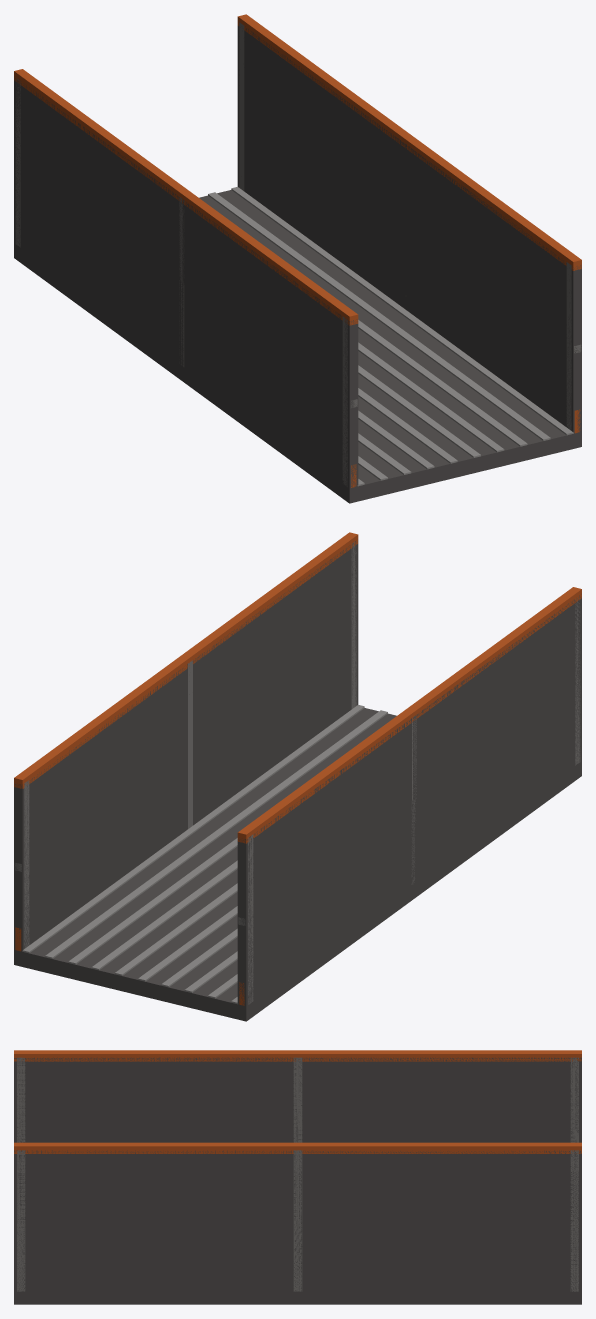
File: B_k_catwalk.glb
The picture shows the model from 3 angles, top to bottom: view 1: azimuth 30°, elevation 25°; view 2: azimuth 150°, elevation 25°; view 3: azimuth 270°, elevation 25°; orthographic projection. The views are drawn at different scales.
Parts seen in each view (by area): view 1: MCDCX_h.001, MCDCX_h.002, Cube, Cube.014, Cube.020, Cube.009, Cube.010, Cube.008, Cube.007, Cube.006, Cube.013, Cube.017 (+5 smaller); view 2: MCDCX_h.001, MCDCX_h.002, Cube, Cube.020, Cube.014, Cube.009, Cube.010, Cube.008, Cube.007, Cube.006, Cube.011, Cube.017 (+5 smaller); view 3: MCDCX_h.002, MCDCX_h.001, Cube, Cube.020, Cube.014, Cube.018, Cube.019, Cube.017, Cube.012, Cube.011, Cube.013.
Part boxes in pixels (<box>): MCDCX_h.001: <box>14,78,358,488</box>; MCDCX_h.002: <box>237,26,581,433</box>; Cube: <box>14,190,581,503</box>; Cube.014: <box>14,69,358,325</box>; Cube.020: <box>237,14,581,270</box>; Cube.009: <box>208,192,550,440</box>; Cube.010: <box>231,186,573,435</box>; Cube.008: <box>358,320,527,446</box>; Cube.007: <box>358,342,504,452</box>; Cube.006: <box>358,365,480,457</box>; Cube.013: <box>342,316,347,486</box>; Cube.017: <box>239,22,244,190</box>; MCDCX_h.001: <box>237,594,581,1006</box>; MCDCX_h.002: <box>14,540,358,951</box>; Cube: <box>14,708,581,1021</box>; Cube.020: <box>14,532,358,788</box>; Cube.014: <box>237,587,581,843</box>; Cube.009: <box>45,710,387,958</box>; Cube.010: <box>22,704,364,953</box>; Cube.008: <box>68,838,237,964</box>; Cube.007: <box>91,860,237,970</box>; Cube.006: <box>115,883,237,975</box>; Cube.011: <box>248,834,253,1004</box>; Cube.017: <box>24,780,29,948</box>; MCDCX_h.002: <box>14,1150,581,1291</box>; MCDCX_h.001: <box>14,1057,581,1142</box>; Cube: <box>14,1291,581,1304</box>; Cube.020: <box>14,1142,581,1153</box>; Cube.014: <box>14,1050,581,1061</box>; Cube.018: <box>293,1150,302,1291</box>; Cube.019: <box>17,1150,25,1291</box>; Cube.017: <box>570,1150,578,1291</box>; Cube.012: <box>293,1057,302,1142</box>; Cube.011: <box>570,1057,578,1142</box>; Cube.013: <box>17,1057,25,1142</box>.
Size of the model in its own units: 1.6 by 1.23 by 4.
